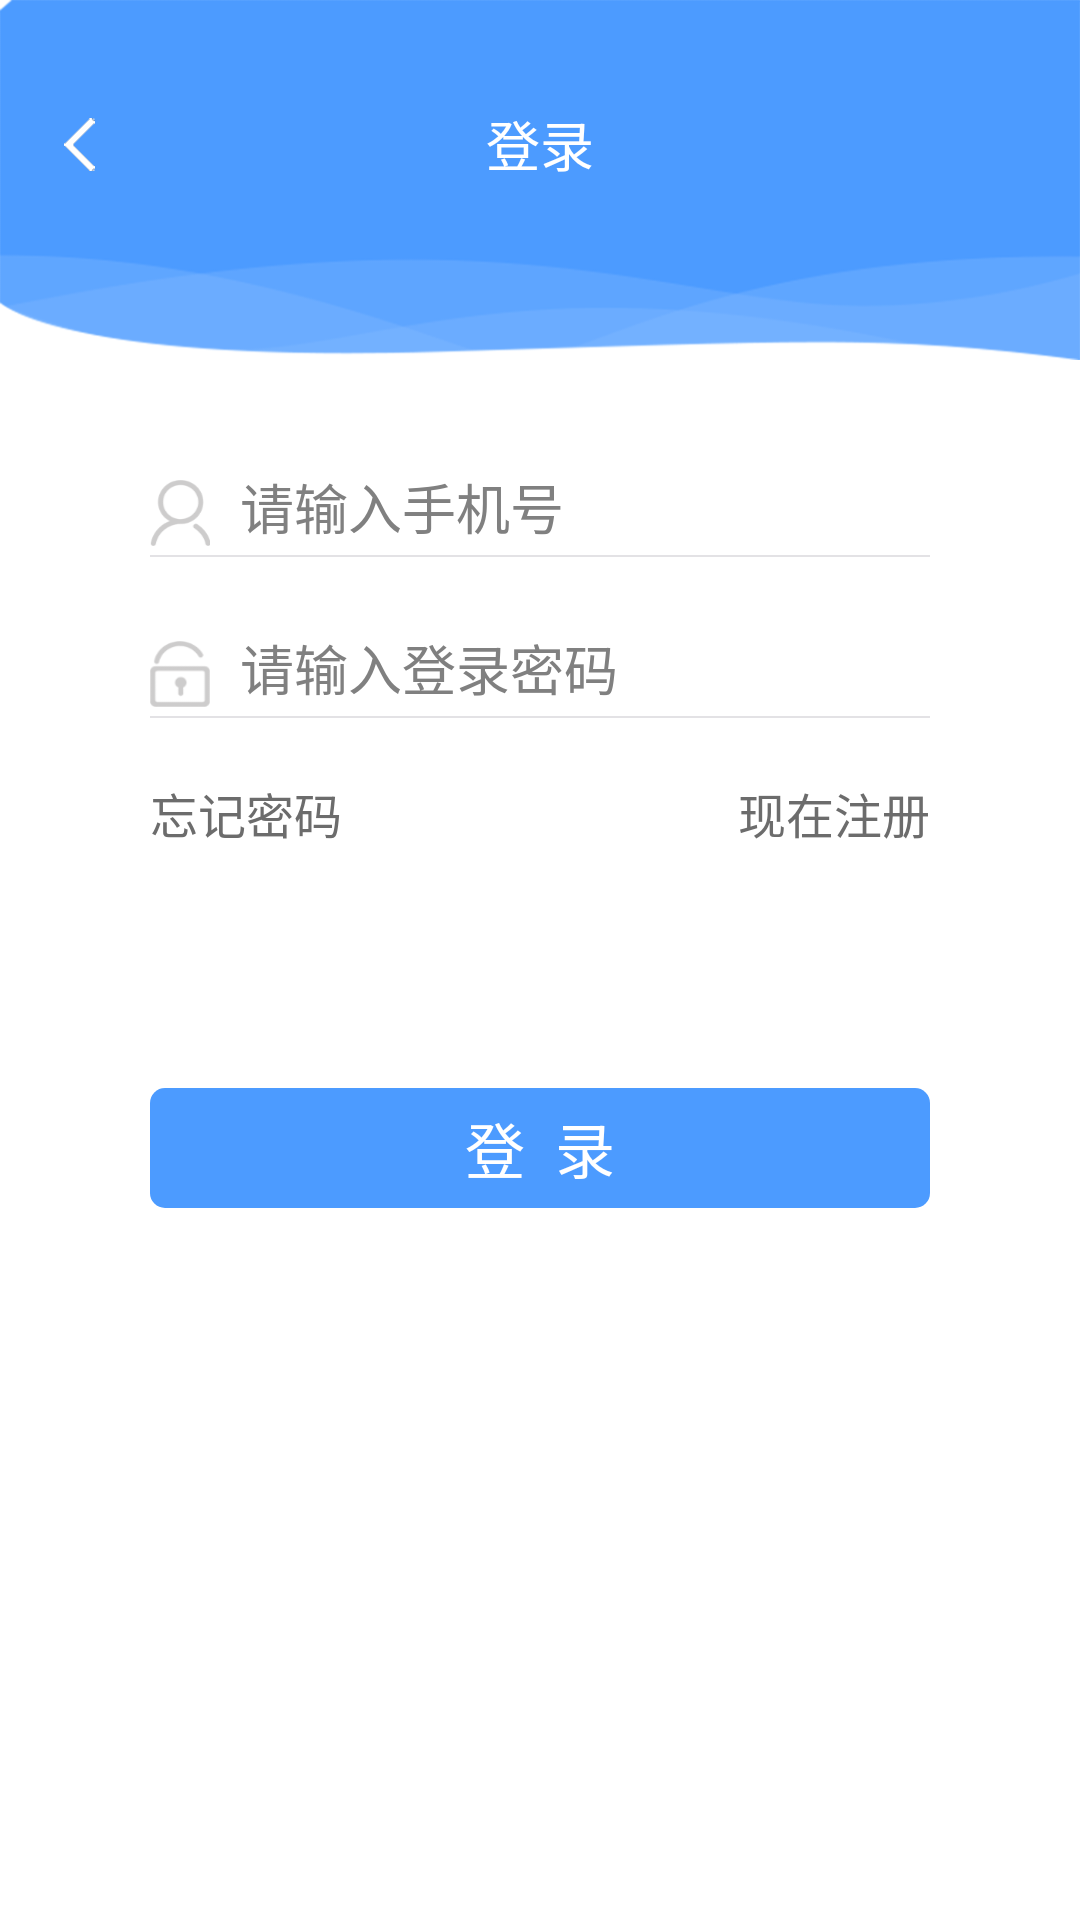

Locate icon controls on the screen. Image size 1080 × 1920, boxes as (x1, y1, x2, y2).
login passwd: (150, 641, 210, 707)
login return: (64, 118, 95, 171)
login user: (151, 480, 210, 546)
